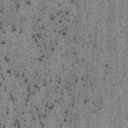oxide scale of temperature system: (0, 0, 92, 80), (5, 64, 104, 128), (106, 4, 114, 28), (85, 62, 90, 72), (93, 40, 97, 48), (104, 64, 110, 69), (114, 43, 116, 51)
